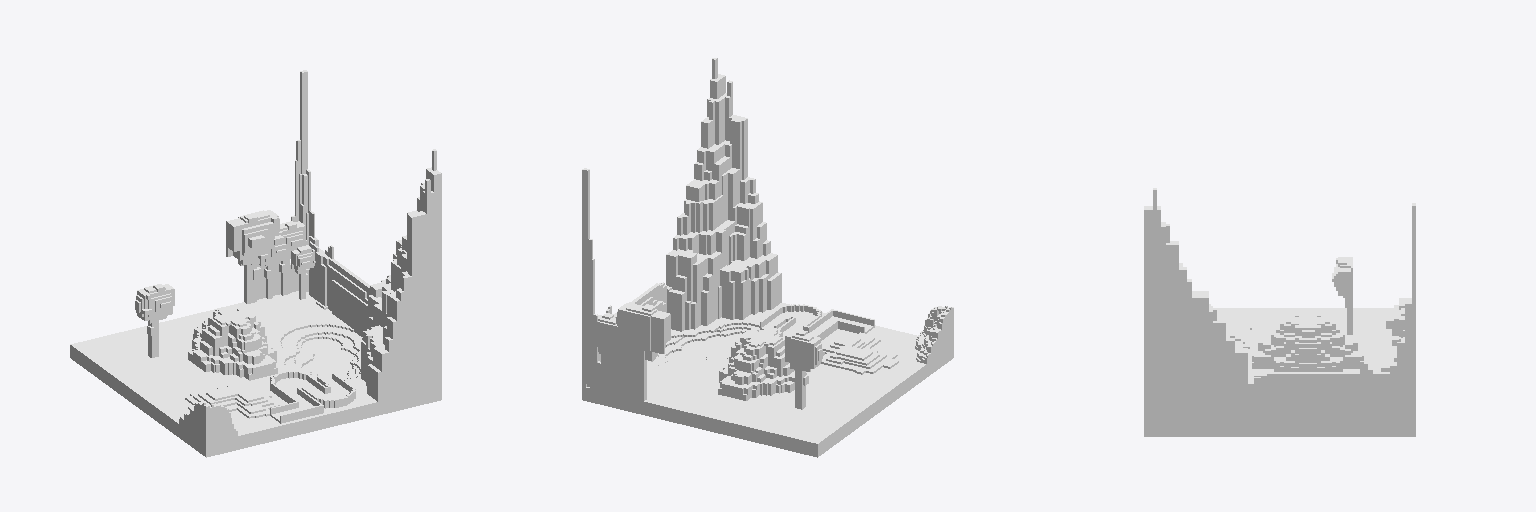
Rendered from gorkamap4.obj.
The picture shows the model from 3 angles: view 1: azimuth 30°, elevation 25°; view 2: azimuth 150°, elevation 25°; view 3: azimuth 270°, elevation 25°; orthographic projection.
Visible parts, largest first — view 1: object 1; view 2: object 1; view 3: object 1.
Boxes of the visible parts, <box> form: object 1: <box>70,70,441,457</box>; object 1: <box>582,58,953,457</box>; object 1: <box>1144,188,1415,436</box>.
Size of the model in its own units: 12.6 by 12.6 by 12.6.